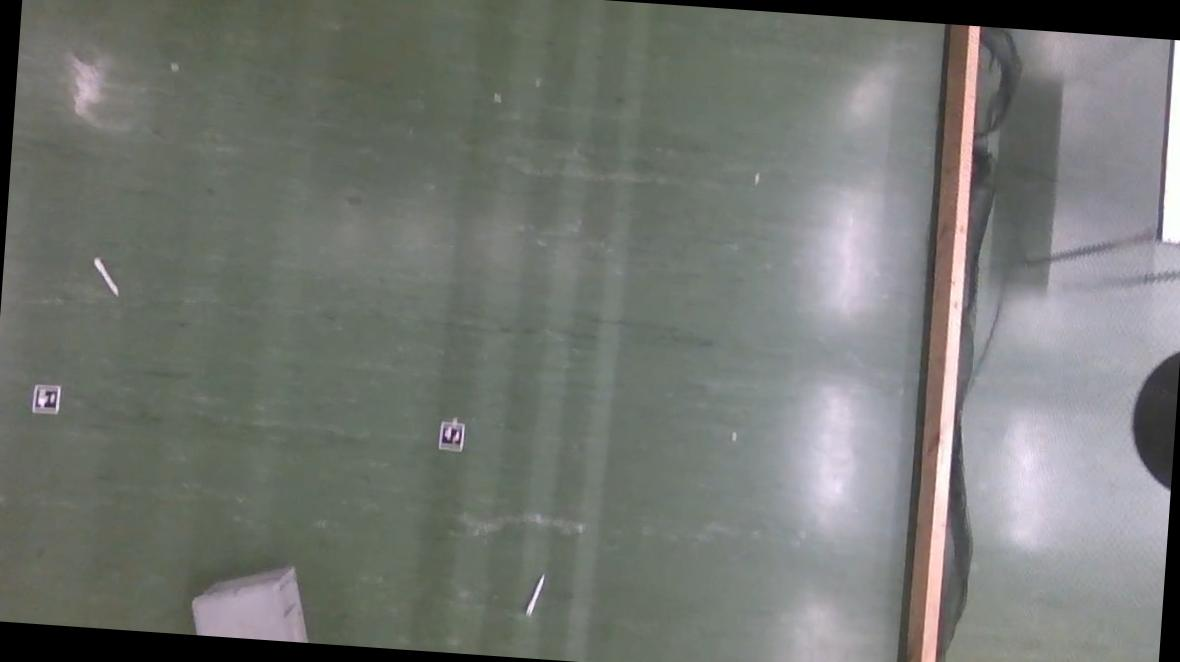probes: (92, 256, 120, 294), (526, 572, 546, 618)
rako: (189, 556, 324, 644)
